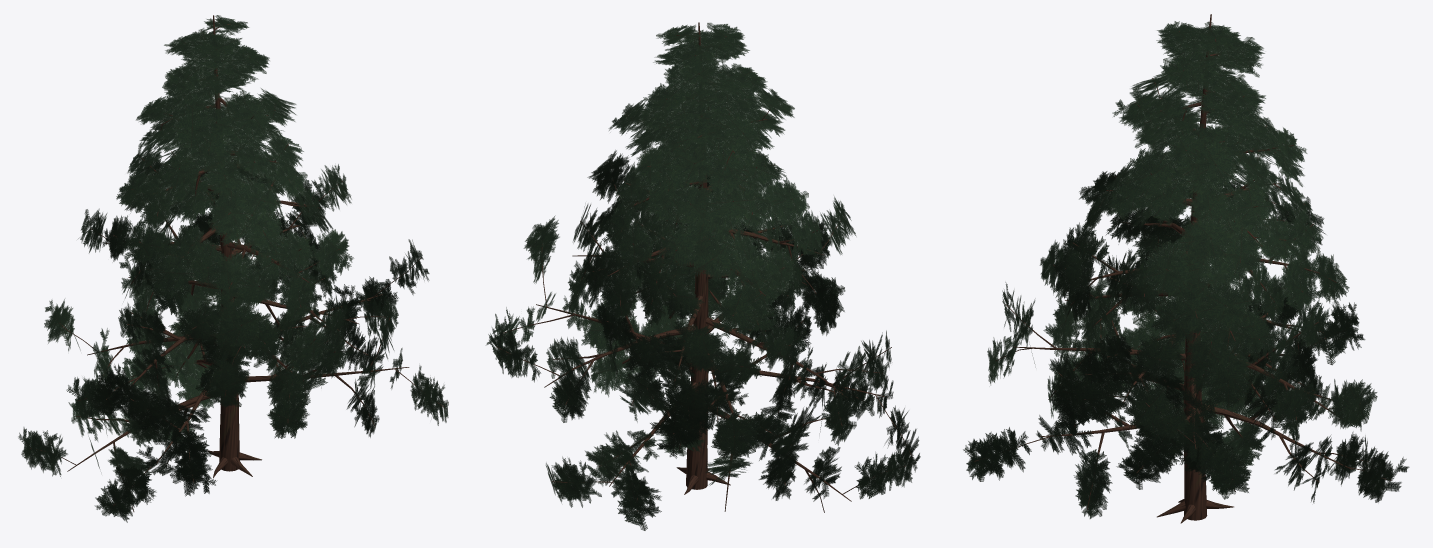
File: DarkPine_2.gltf
3 renders of one model, left to right at view 1: azimuth 30°, elevation 25°; view 2: azimuth 150°, elevation 25°; view 3: azimuth 270°, elevation 25°, orthographic. The views are drawn at different scales.
Parts seen in each view (by area): view 1: DarkPine_2; view 2: DarkPine_2; view 3: DarkPine_2.
Part boxes in pixels (x1,y1,x2,y2): DarkPine_2: (18,15,448,522); DarkPine_2: (486,22,920,530); DarkPine_2: (963,14,1409,523).
Bounding box in the file's own units: 15.15 × 17.16 × 14.25.
Materials: 2 (2 with a texture image).
